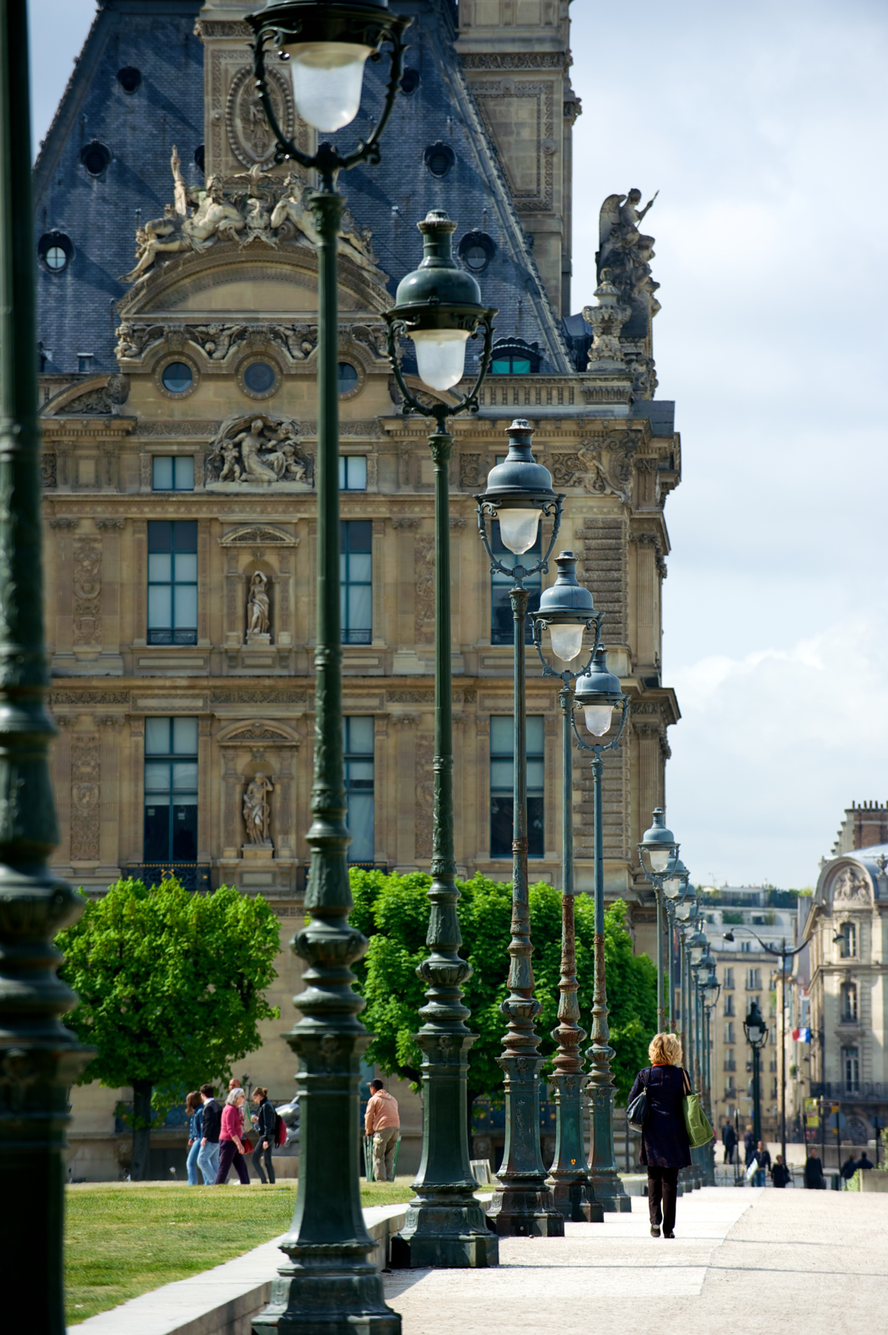fachada: (8, 0, 680, 1093), (667, 859, 817, 1131), (809, 793, 888, 1189)
poste: (258, 0, 446, 1335), (0, 0, 96, 1335), (396, 209, 504, 1231), (475, 392, 584, 1206), (542, 567, 646, 1147), (642, 809, 721, 1156), (738, 993, 796, 1176)
